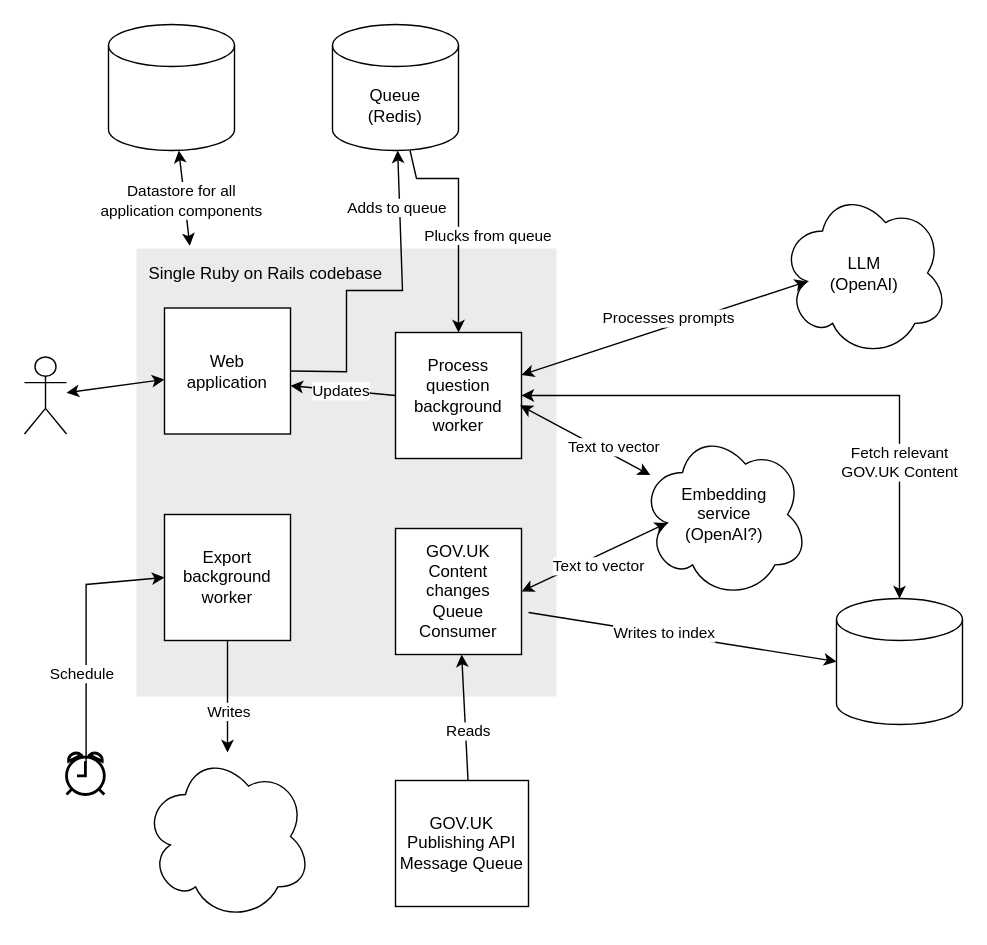
The diagram is 987 pixels wide and 945 high, and some of its shapes have lost their labels. The box of each missing label's shape, as (x1, y1, x2, y2) in pixels:
Application database (PostgreSQL): (107, 23, 234, 150)
Data archive bucket: (142, 751, 312, 920)
Semantic Search engine (Opensearch?): (835, 597, 962, 724)
User: (23, 356, 66, 434)
